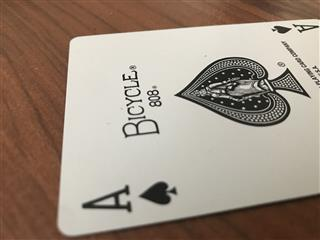AceOfSpades: (56, 18, 320, 237)
